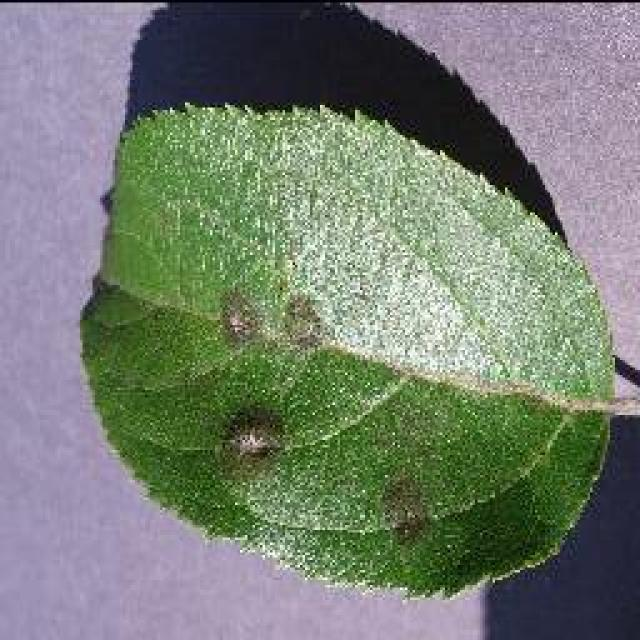apple scab disease: (78, 95, 620, 600)
